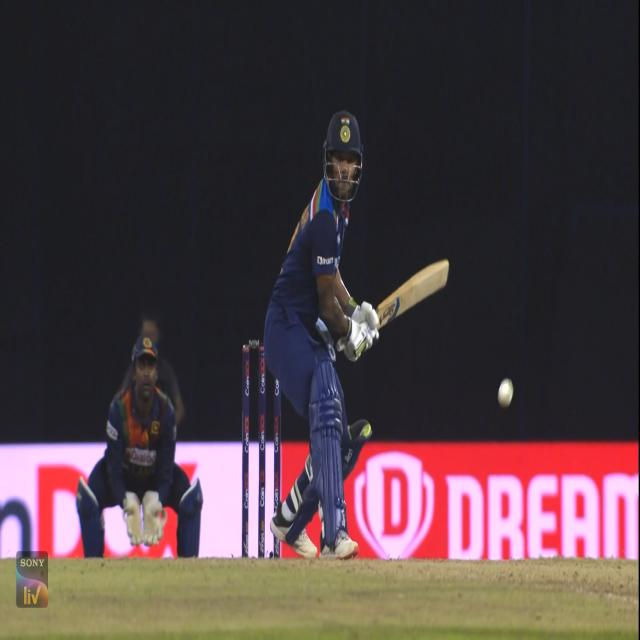ball: (498, 378, 514, 408)
